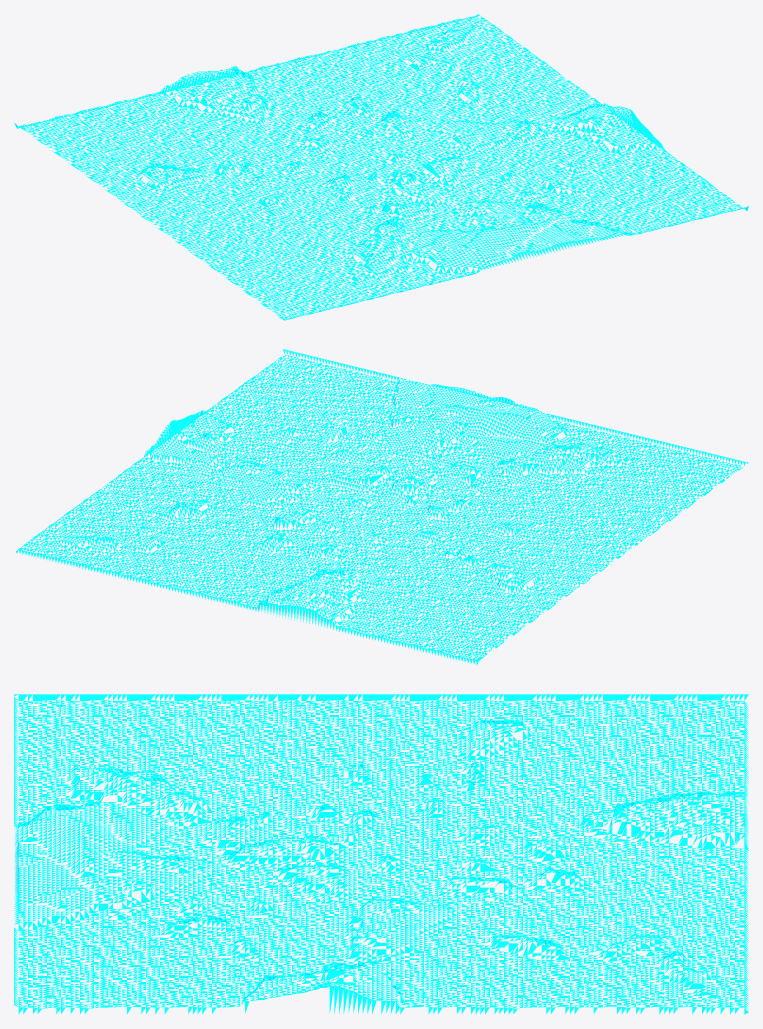
File: s07_Advance.glb
3 views of the same model, one above another, from view 1: azimuth 30°, elevation 25°; view 2: azimuth 150°, elevation 25°; view 3: azimuth 270°, elevation 25° (orthographic). The views are drawn at different scales.
Parts seen in each view (by area): view 1: Terrain; view 2: Terrain; view 3: Terrain.
Part boxes in pixels (box(x1,y1,x2,y2)): Terrain: box(14, 14, 748, 320); Terrain: box(16, 349, 748, 664); Terrain: box(14, 694, 748, 1014).
Bounding box in the file's own units: 1399 × 60.85 × 1399.
